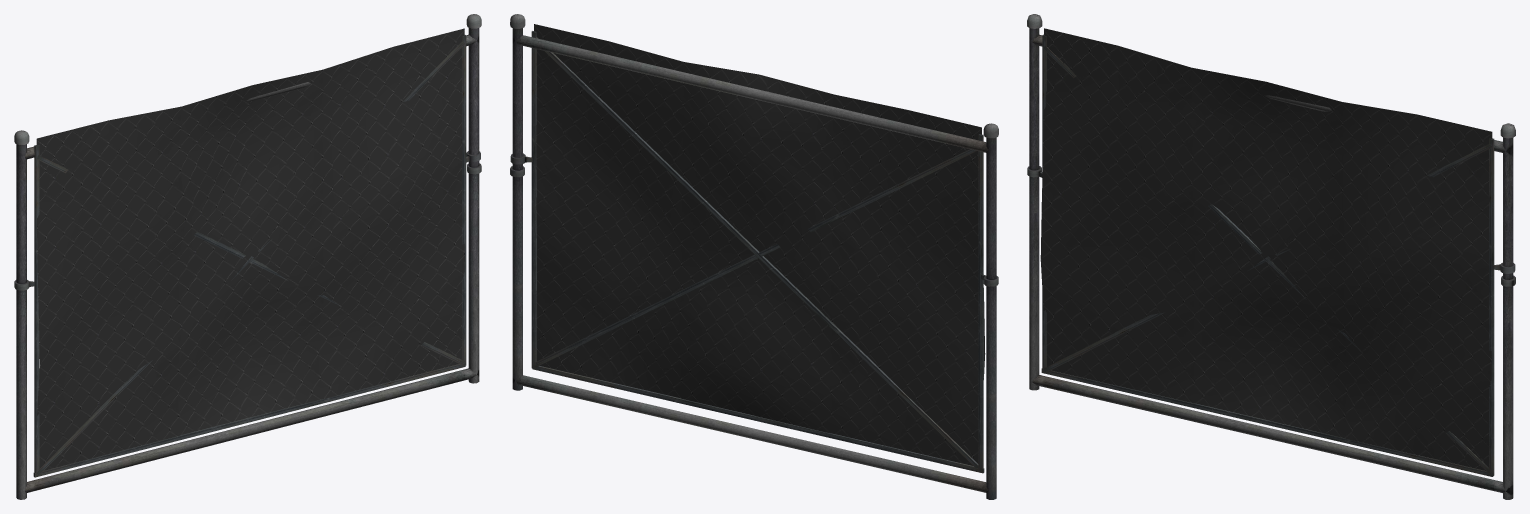
File: chainlink_single.FBX
3 views of the same model, side by side, from view 1: azimuth 30°, elevation 25°; view 2: azimuth 150°, elevation 25°; view 3: azimuth 330°, elevation 25° (orthographic).
Visible parts, largest first — view 1: chainlink_LOD0; view 2: chainlink_LOD0; view 3: chainlink_LOD0.
Boxes of the visible parts, x1,y1,x2,y2 form: chainlink_LOD0: [14, 14, 481, 499]; chainlink_LOD0: [510, 14, 998, 499]; chainlink_LOD0: [1027, 14, 1515, 499].
Size of what is drawn, in the model's own units: 112 by 82.86 by 6.57.
